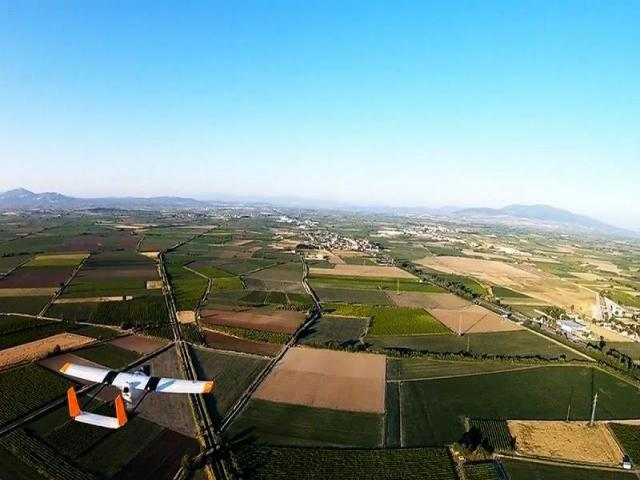hedef: (53, 351, 214, 437)
